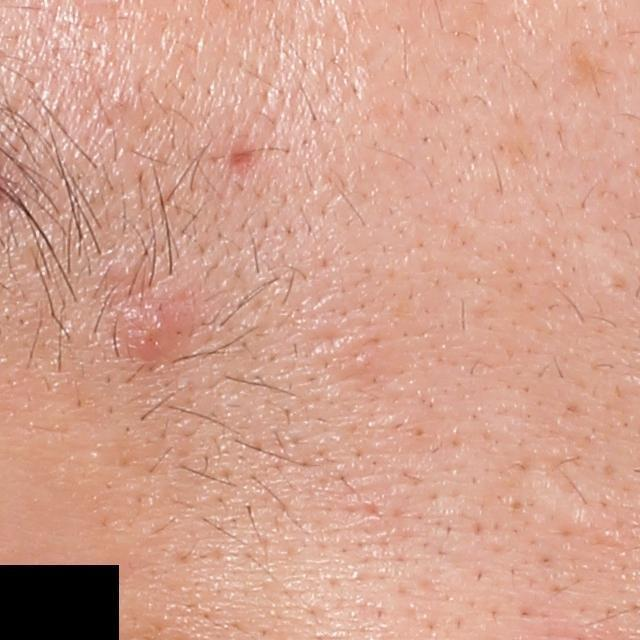papule: (109, 285, 190, 359)
